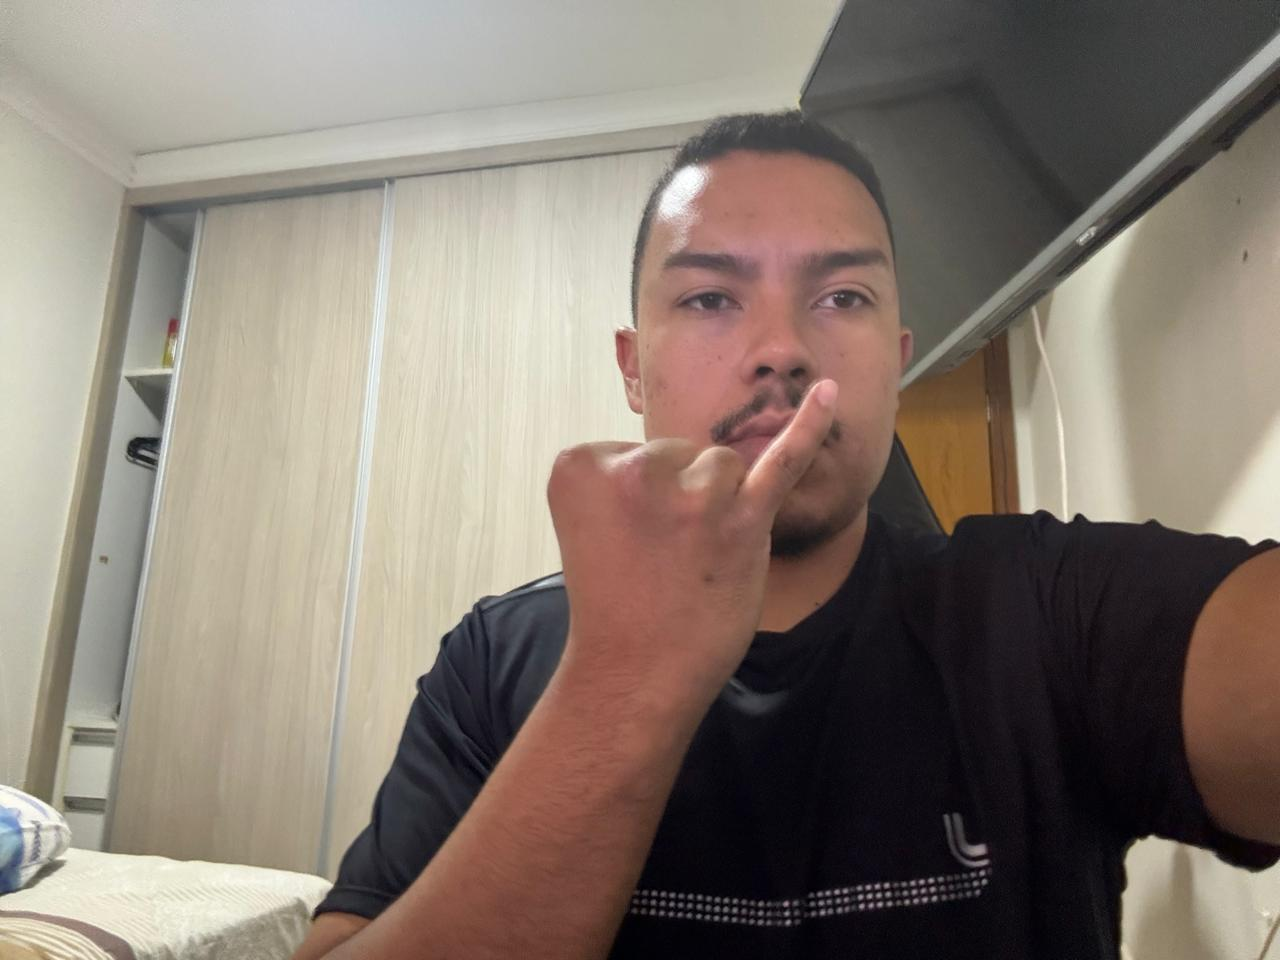j: (530, 363, 849, 705)
